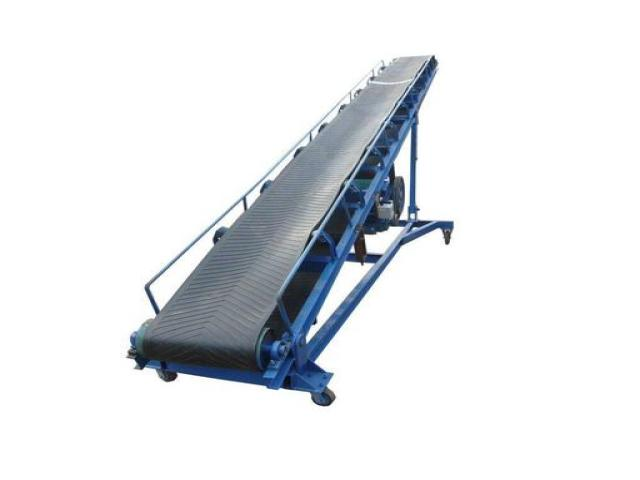conveyor: (125, 52, 454, 405)
